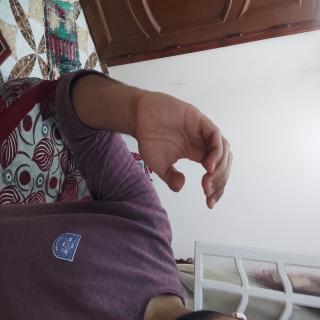JEEM: (55, 109, 160, 268)
